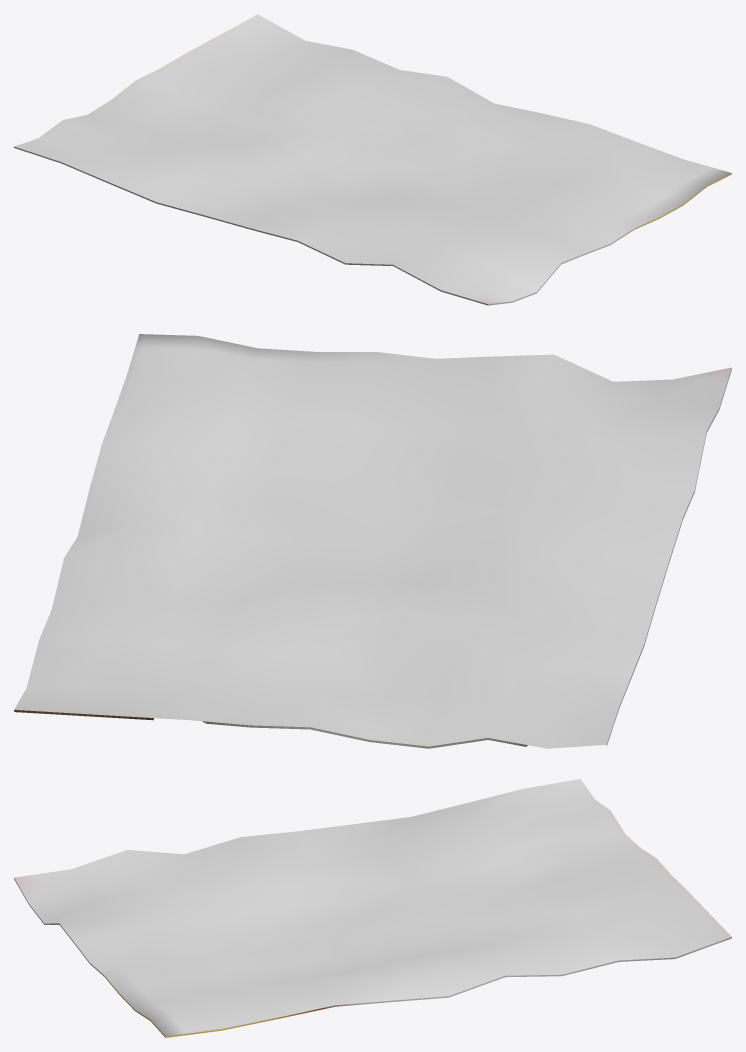
File: Wrapper1.fbx
3 views of the same model, one above another, from view 1: azimuth 30°, elevation 25°; view 2: azimuth 150°, elevation 25°; view 3: azimuth 270°, elevation 25° (orthographic). The views are drawn at different scales.
Parts seen in each view (by area): view 1: Wrapper1; view 2: Wrapper1; view 3: Wrapper1.
Part boxes in pixels (x1,y1,x2,y2): Wrapper1: (14,14,731,305); Wrapper1: (14,334,731,748); Wrapper1: (14,779,731,1037).
Size of the model in its own units: 11.84 by 0.5223 by 14.09.
